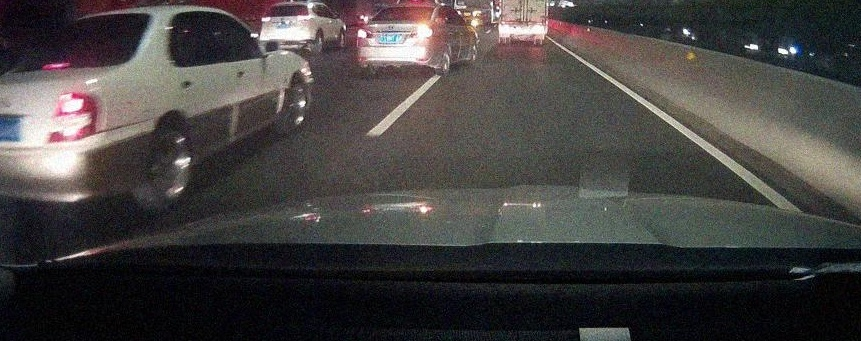L_light: (357, 28, 375, 38), (260, 17, 273, 23)
R_light: (411, 27, 431, 37), (297, 15, 310, 20)
T_light: (405, 7, 417, 10), (288, 3, 297, 6)
night-no: (260, 1, 315, 55)
night-right: (357, 3, 440, 77)
